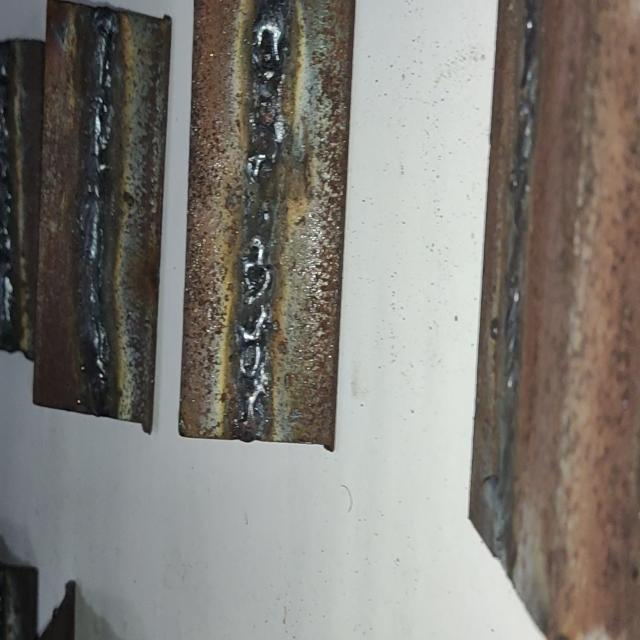Defect: (233, 27, 283, 444), (90, 25, 114, 413)
Welding Line: (230, 5, 292, 433), (77, 5, 121, 401)
Workpiece: (190, 0, 348, 449), (44, 5, 157, 434)
